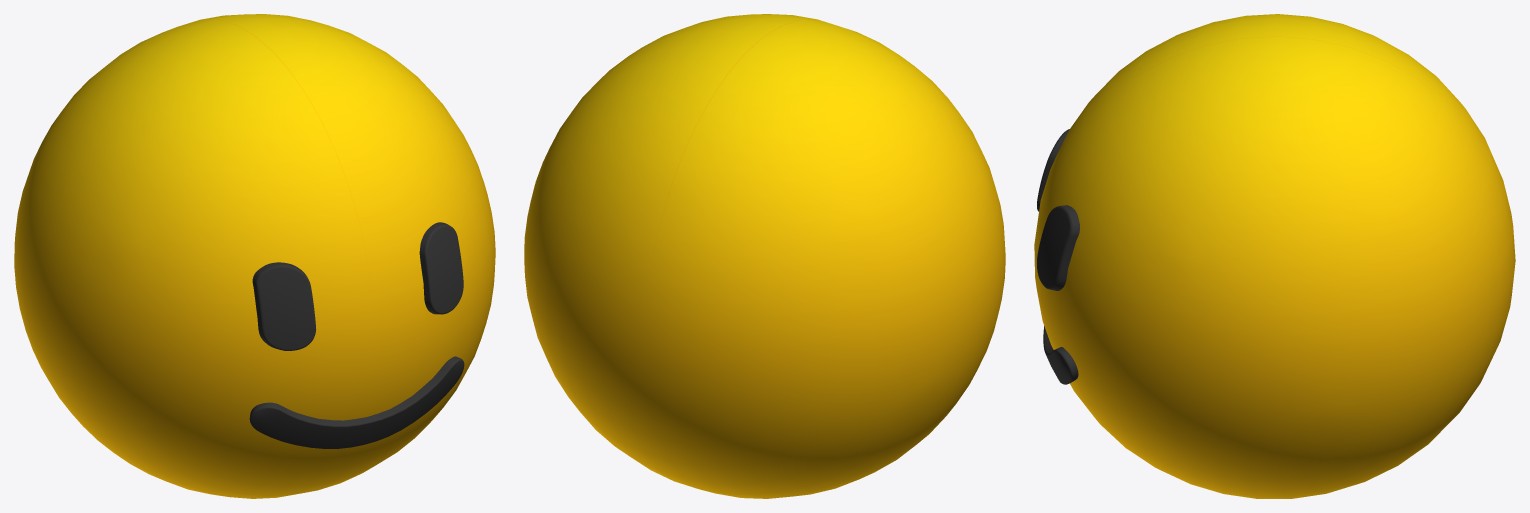
Rendered from smile.glb.
3 renders of one model, left to right at view 1: azimuth 30°, elevation 25°; view 2: azimuth 150°, elevation 25°; view 3: azimuth 270°, elevation 25°, orthographic.
Parts seen in each view (by area): view 1: polySurface168.1; view 2: polySurface168.1; view 3: polySurface168.1.
Boxes of the visible parts, left/top/right/bottom form: polySurface168.1: left=14, top=14, right=495, bottom=498; polySurface168.1: left=524, top=14, right=1005, bottom=498; polySurface168.1: left=1034, top=14, right=1515, bottom=498.
Size of the model in its own units: 0.0162 by 0.0164 by 0.0162.
1 material, 1 textured.
